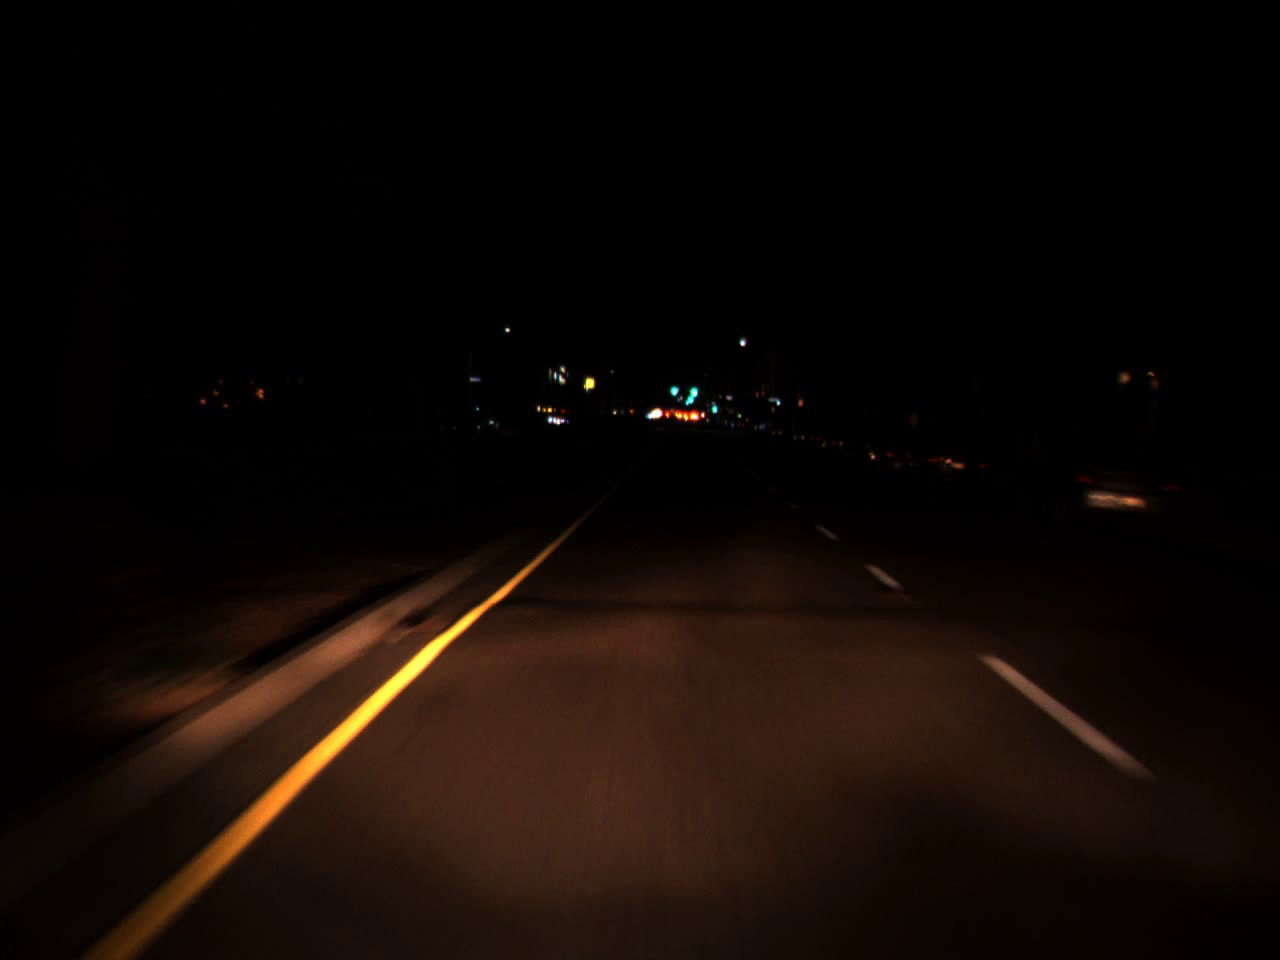go: (680, 386, 694, 410), (687, 376, 699, 400), (669, 377, 679, 398), (711, 395, 718, 416)
